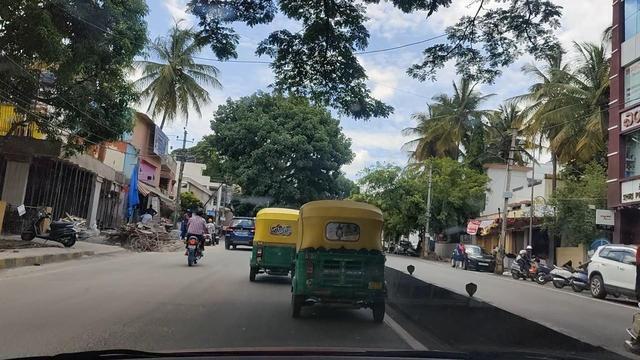LMV: (303, 199, 386, 322), (252, 213, 298, 285), (175, 208, 216, 267)
RoadDamages: (81, 294, 229, 357)
